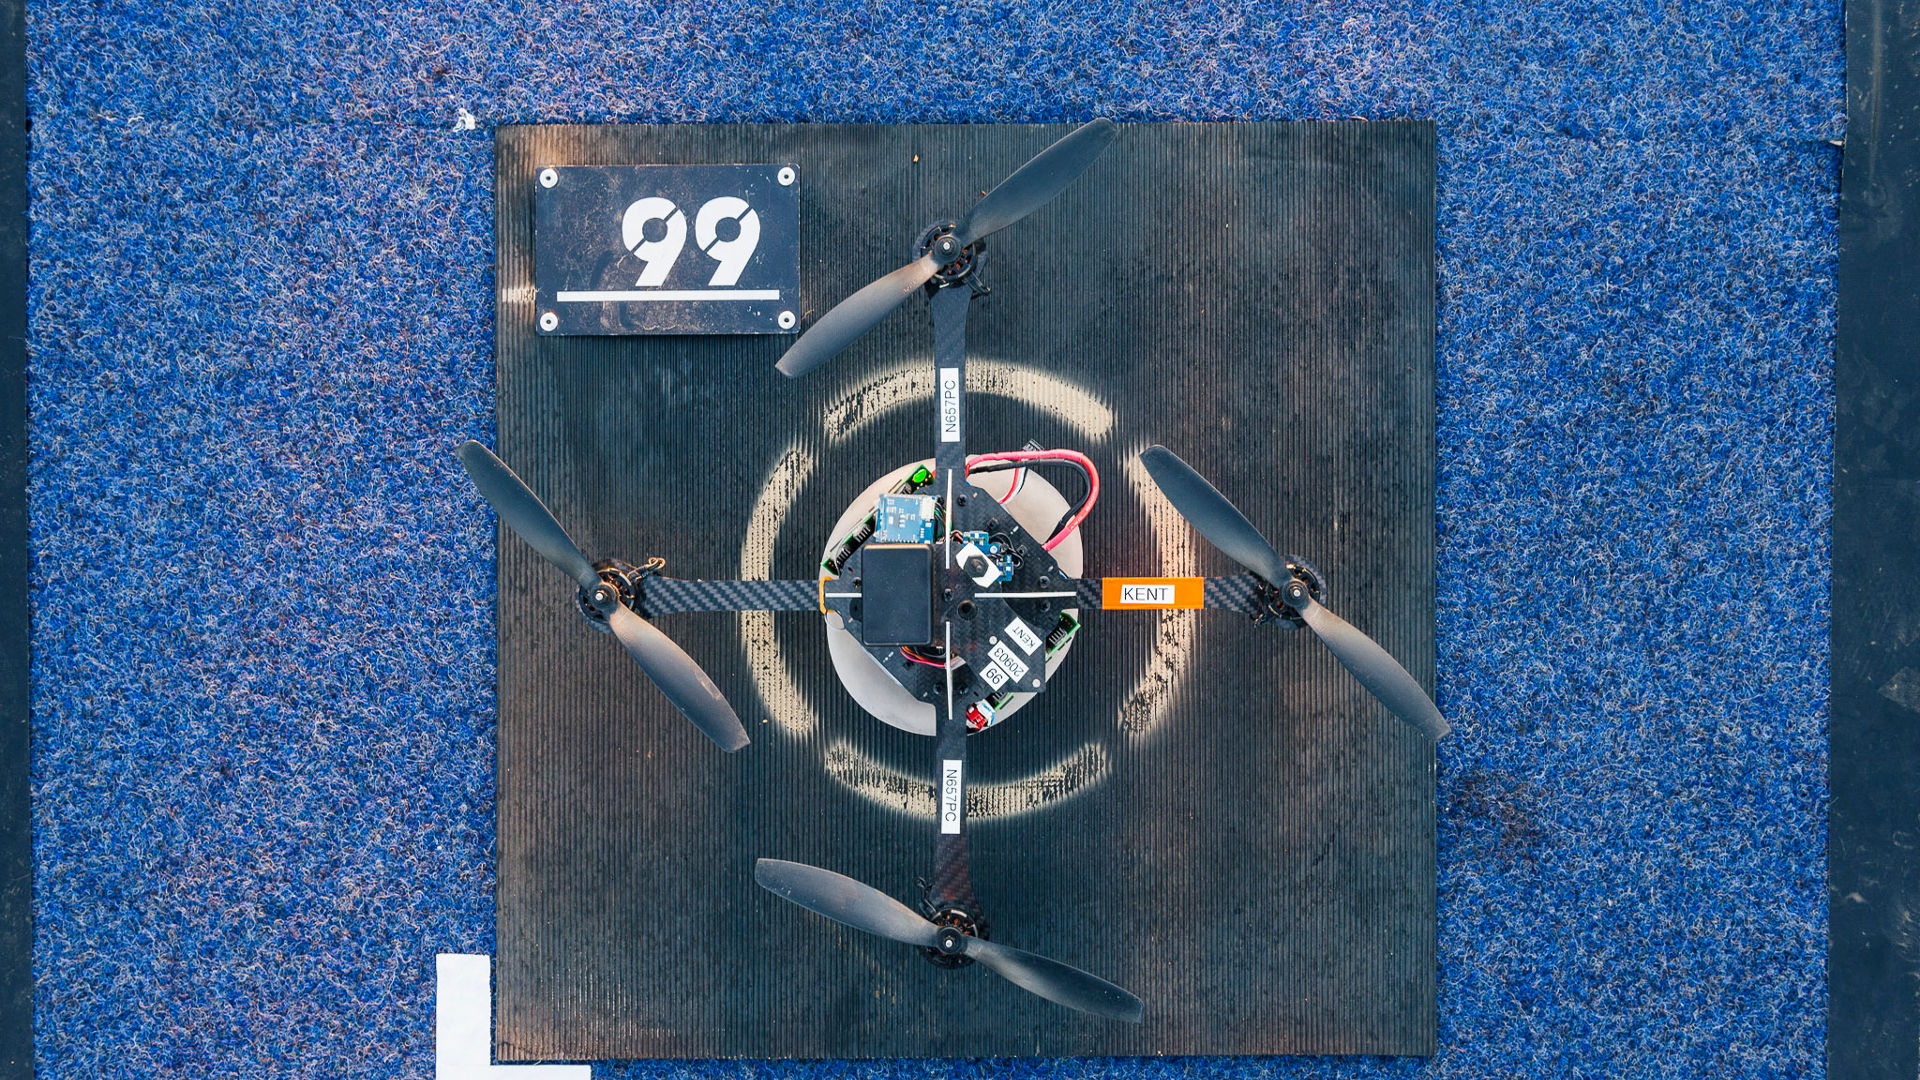drone: (456, 105, 1460, 1029)
